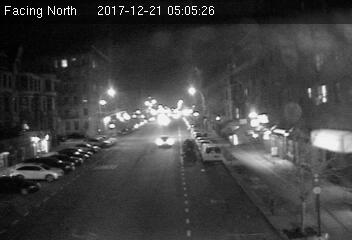car: (156, 135, 176, 149)
truck: (201, 143, 223, 163)
